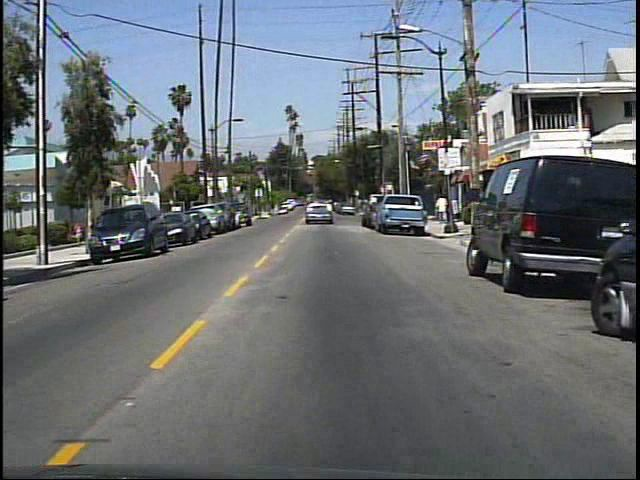person: (435, 193, 449, 228), (74, 218, 90, 246)
